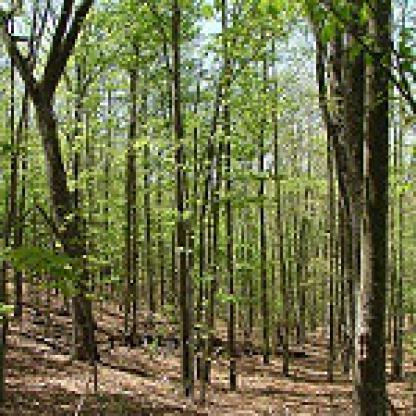tree: (0, 0, 103, 361)
trunk: (352, 0, 394, 411), (169, 0, 197, 402), (219, 0, 241, 391), (119, 75, 142, 344), (8, 72, 25, 316), (258, 136, 272, 363)
